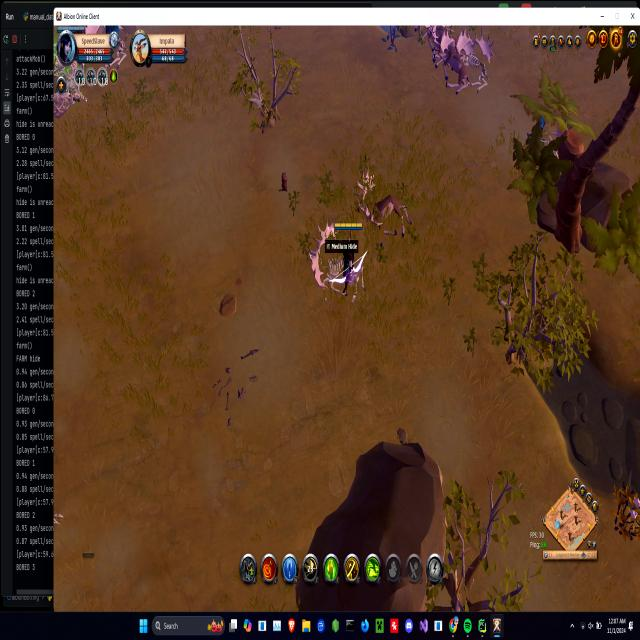hide: (614, 478, 640, 543)
mob: (431, 26, 469, 97), (369, 190, 409, 240)
red: (332, 220, 364, 284)
